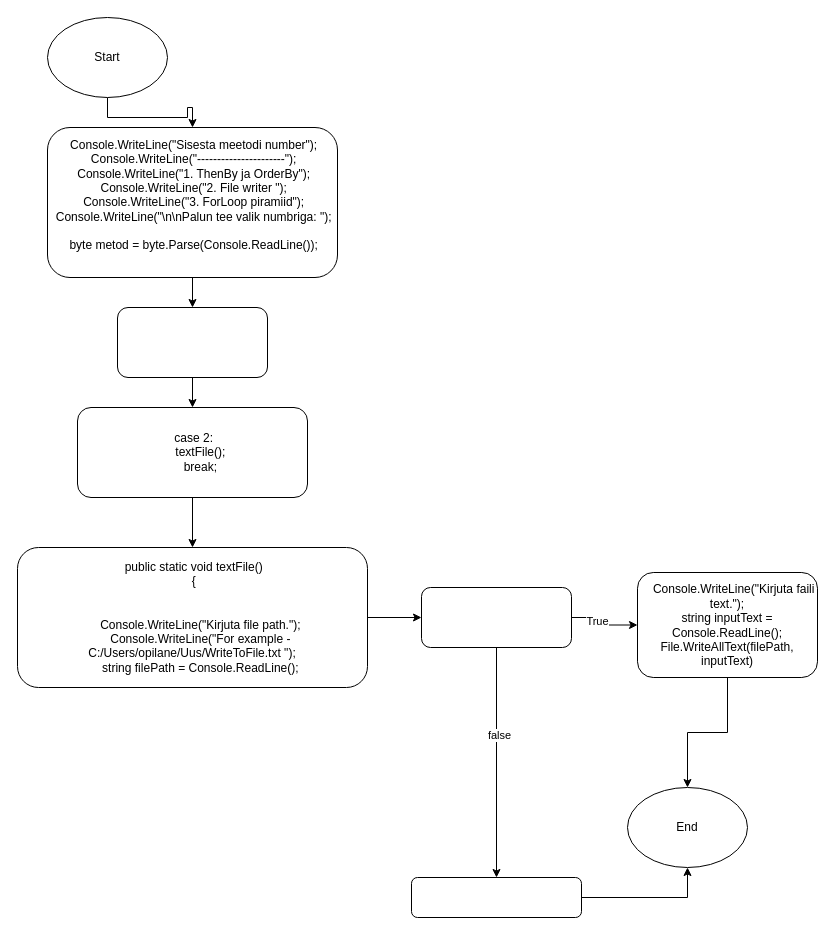
Some shapes in this 835 by 935 pixel diagram are drawn without their labels. The box of each missing label's shape, as (x1, y1, x2, y2) in pixels:
Console.WriteLine("Error");: (410, 876, 582, 918)
if(!Directory.Exists(filePath)): (420, 586, 572, 648)
switch (metod): (116, 306, 268, 378)
